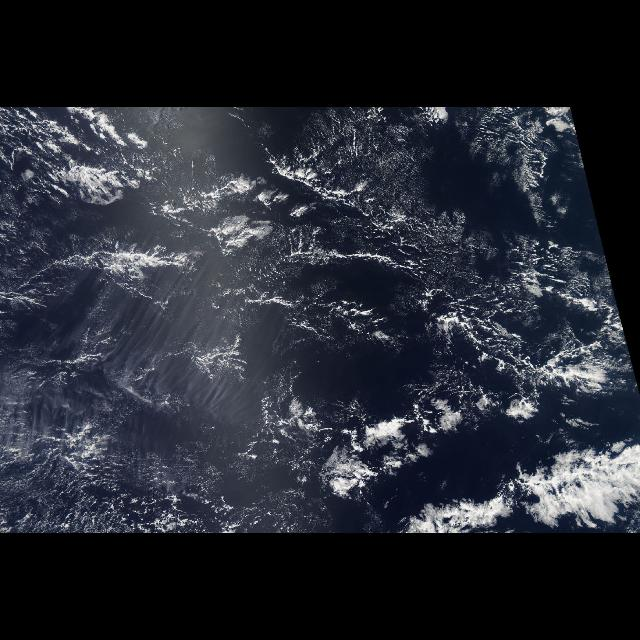Fish: (442, 308, 638, 402), (257, 140, 409, 228), (466, 450, 638, 522), (32, 247, 222, 311), (272, 237, 430, 285), (6, 344, 150, 388)
Gravel: (38, 204, 628, 383)
Sugar: (2, 381, 254, 534)
